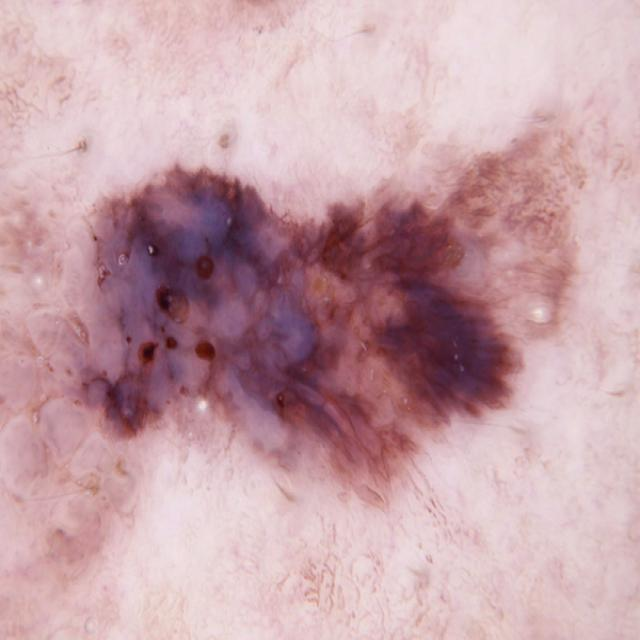Skin-Cancer Pigmented benign keratosis: (36, 63, 640, 640)
